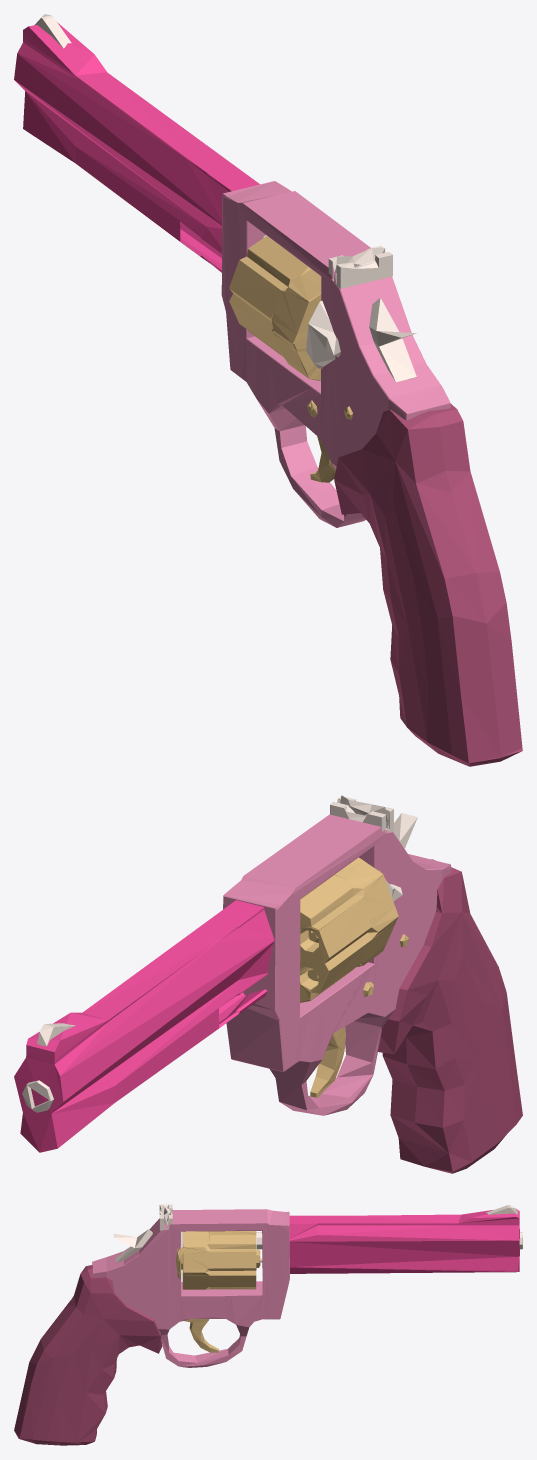
Rendered from Revolver_SW500.obj.
The picture shows the model from 3 angles, top to bottom: view 1: azimuth 30°, elevation 25°; view 2: azimuth 150°, elevation 25°; view 3: azimuth 270°, elevation 25°; orthographic projection. The views are drawn at different scales.
Visible parts, largest first — view 1: Grip, Body, Accent, Cylinder, Panel; view 2: Body, Grip, Accent, Cylinder, Panel, Hardware; view 3: Body, Grip, Accent, Cylinder, Panel, Hardware.
Boxes of the visible parts, left/top/right/bottom form: Grip: left=334, top=404, right=522, bottom=766; Body: left=221, top=181, right=450, bottom=527; Accent: left=14, top=22, right=259, bottom=272; Cylinder: left=229, top=236, right=321, bottom=380; Panel: left=34, top=14, right=416, bottom=382; Body: left=223, top=814, right=451, bottom=1115; Grip: left=378, top=859, right=522, bottom=1173; Accent: left=14, top=900, right=274, bottom=1152; Cylinder: left=300, top=857, right=398, bottom=1002; Panel: left=22, top=795, right=417, bottom=1112; Hardware: left=310, top=934, right=408, bottom=1097; Body: left=92, top=1209, right=289, bottom=1367; Grip: left=14, top=1265, right=162, bottom=1445; Accent: left=289, top=1209, right=519, bottom=1273; Cylinder: left=176, top=1231, right=260, bottom=1289; Panel: left=113, top=1203, right=522, bottom=1262; Hardware: left=184, top=1318, right=218, bottom=1352.
Size of the model in its own units: 0.2212 by 0.8562 by 1.7.
